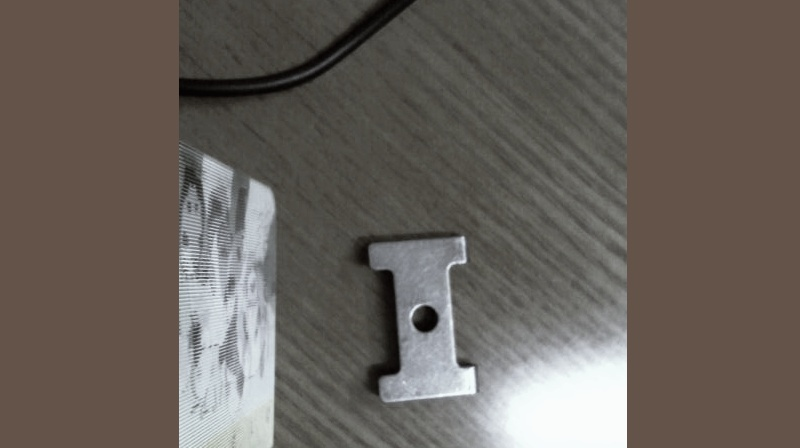O002: (364, 229, 477, 407)
